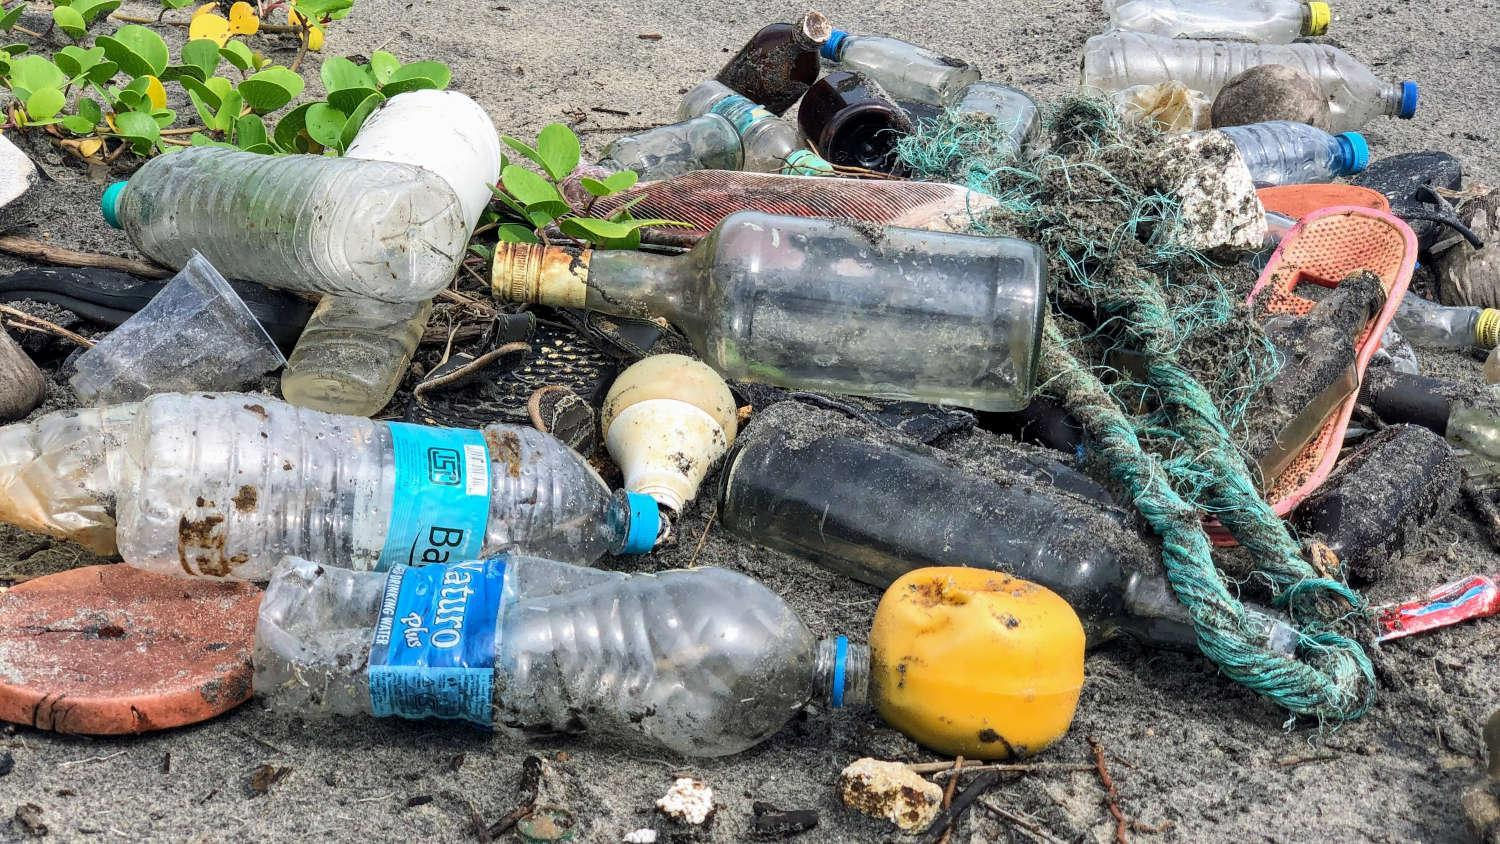bottle: (250, 534, 888, 770), (480, 212, 1051, 412), (125, 382, 667, 592), (269, 88, 504, 401), (95, 136, 475, 310), (1065, 28, 1422, 142), (673, 69, 844, 189), (792, 1, 980, 107), (1211, 104, 1376, 194), (584, 103, 747, 185)
